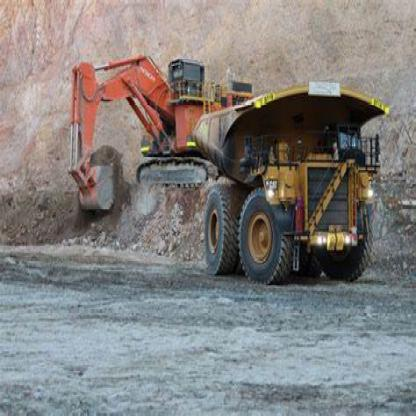dump_truck: (194, 80, 388, 290)
